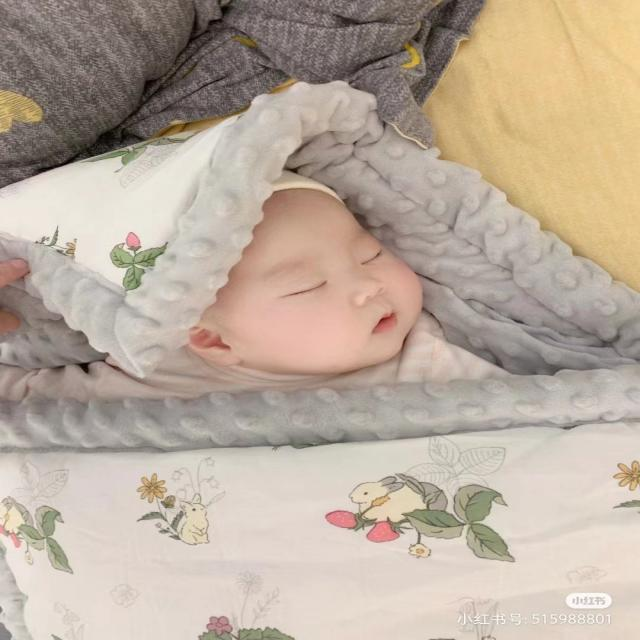child: (148, 171, 465, 398)
